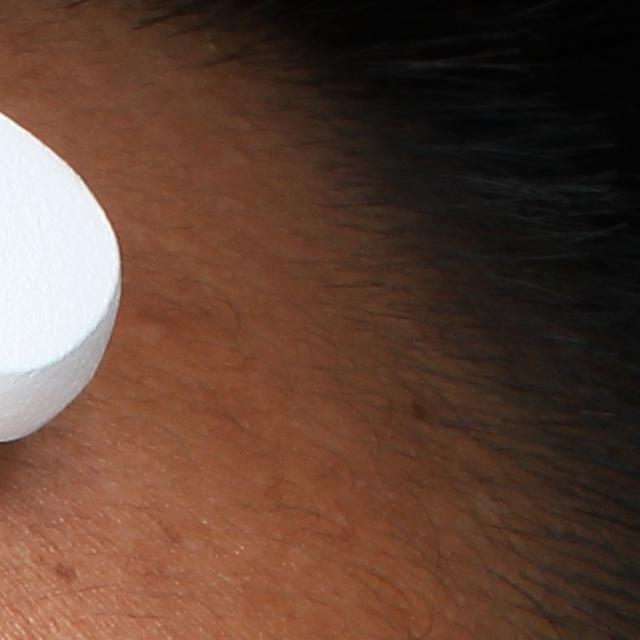nevus: (56, 558, 80, 583)
